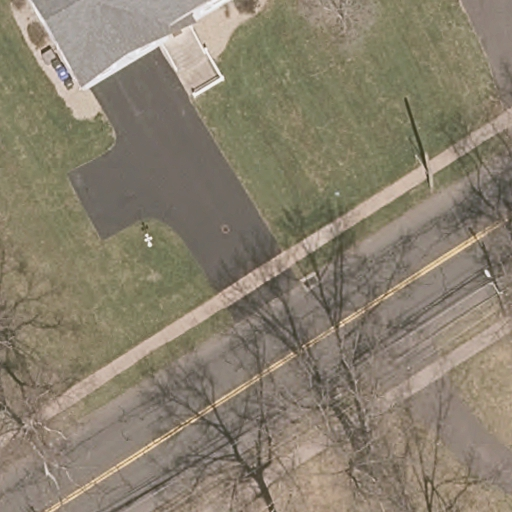DT: (482, 266, 512, 316)
